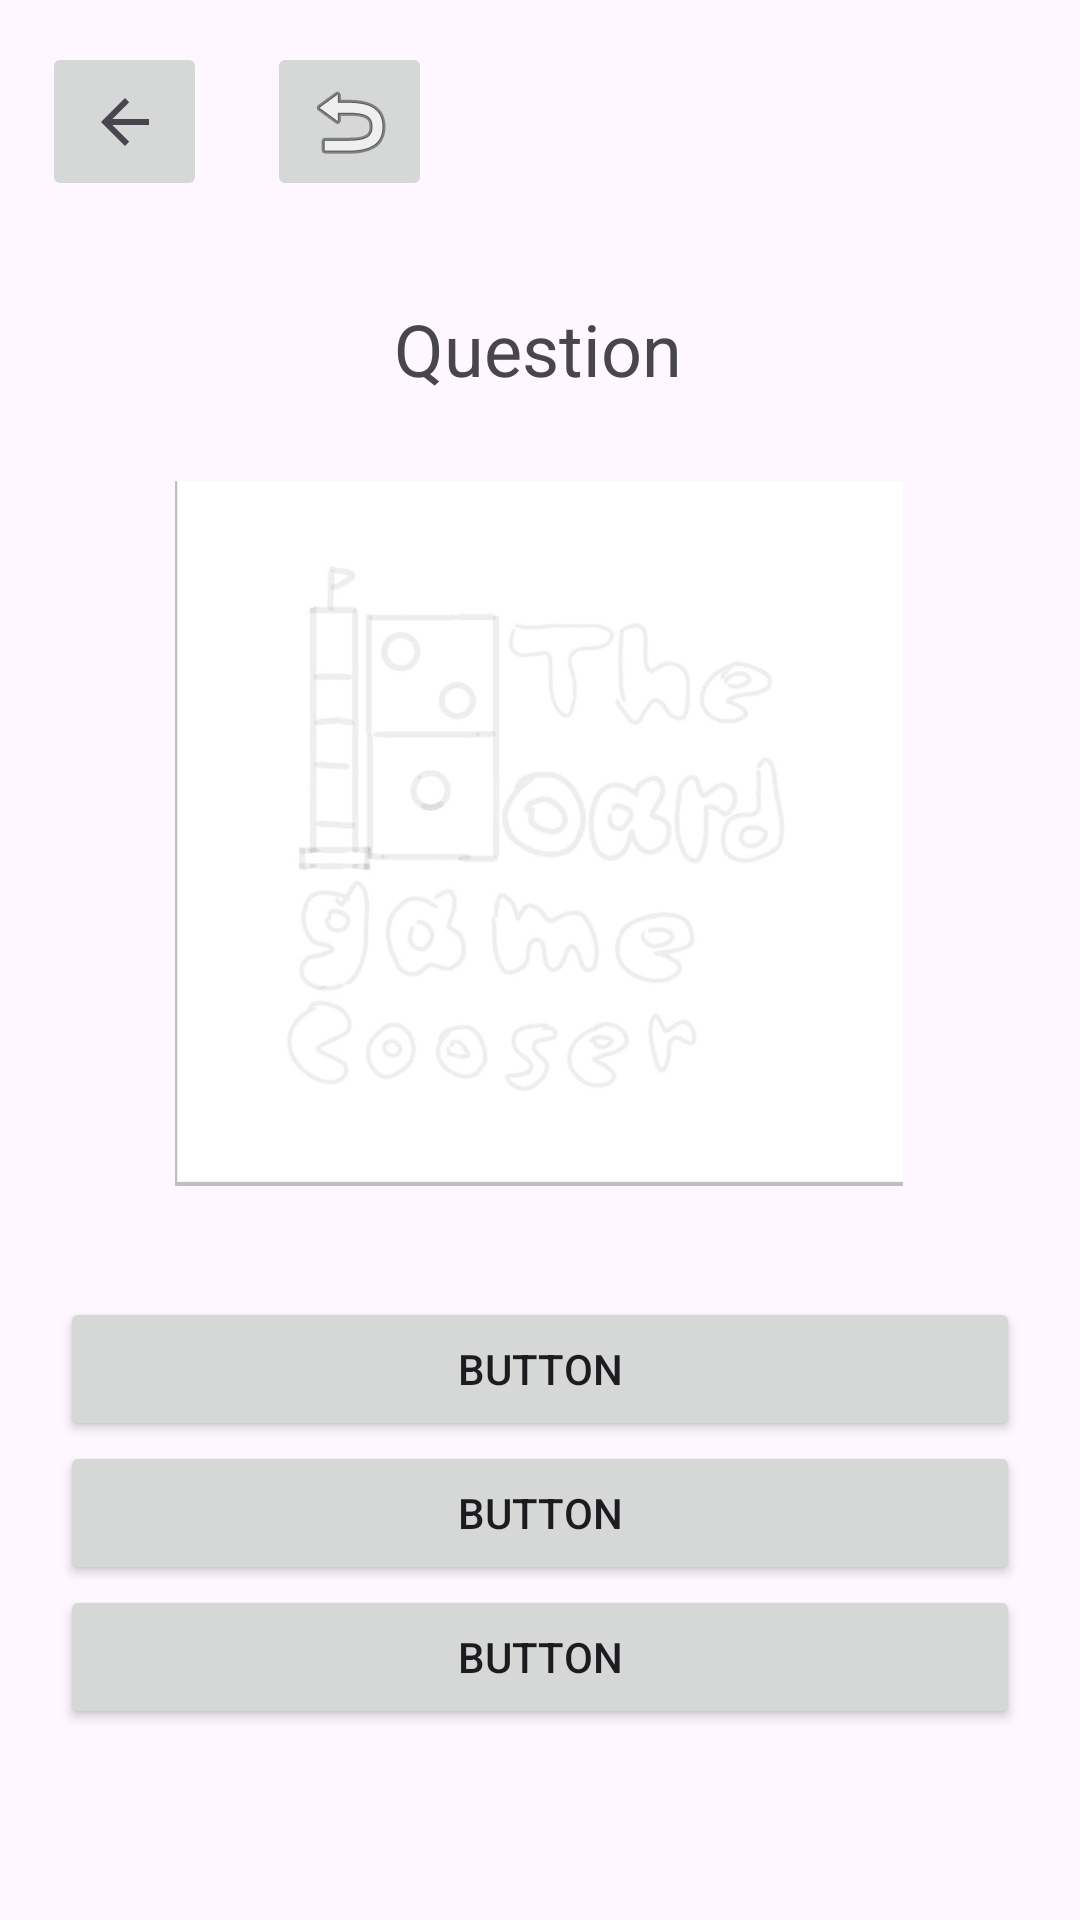

Screen size 1080x1920. Icon name, then its center in pixels as (x=x, y=y):
revert: (x=349, y=121)
